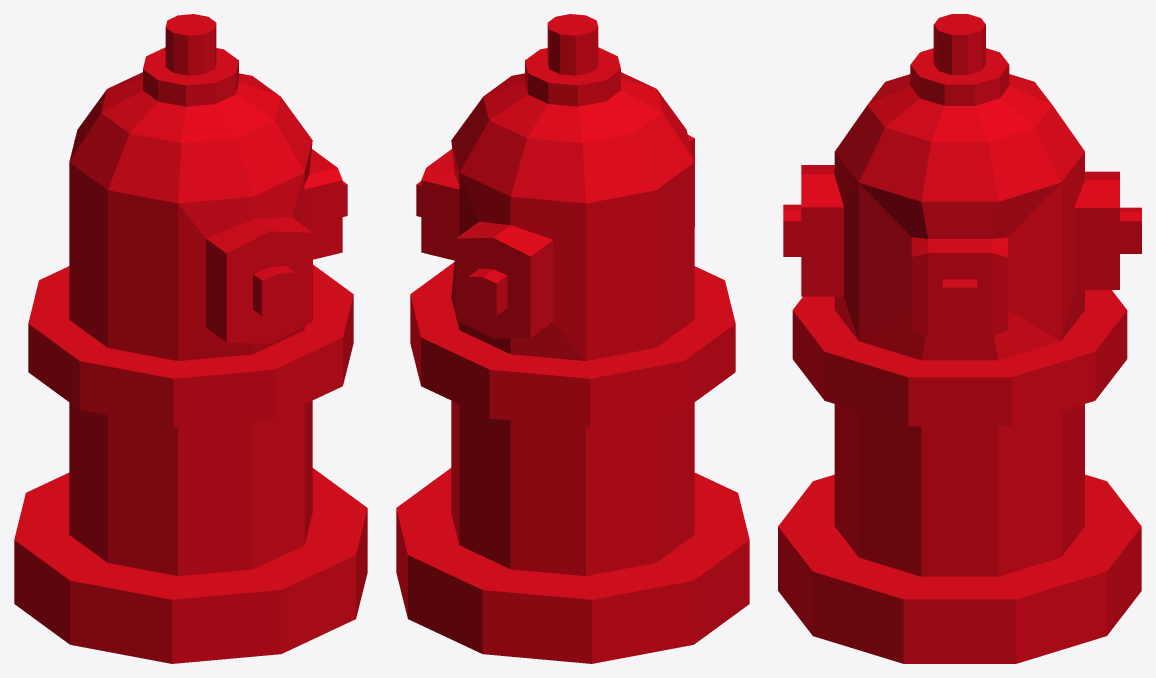
Rendered from lowPolyFireHydrant.fbx.
3 views of the same model, side by side, from view 1: azimuth 30°, elevation 25°; view 2: azimuth 150°, elevation 25°; view 3: azimuth 270°, elevation 25° (orthographic).
Visible parts, largest first — view 1: FireHydrant; view 2: FireHydrant; view 3: FireHydrant.
Part boxes in pixels (x1,y1,x2,y2): FireHydrant: [14, 14, 367, 663]; FireHydrant: [396, 14, 749, 663]; FireHydrant: [778, 14, 1141, 663].
Bounding box in the file's own units: 276 × 499 × 291.
